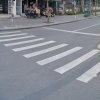crosswalks: (0, 32, 99, 78)
